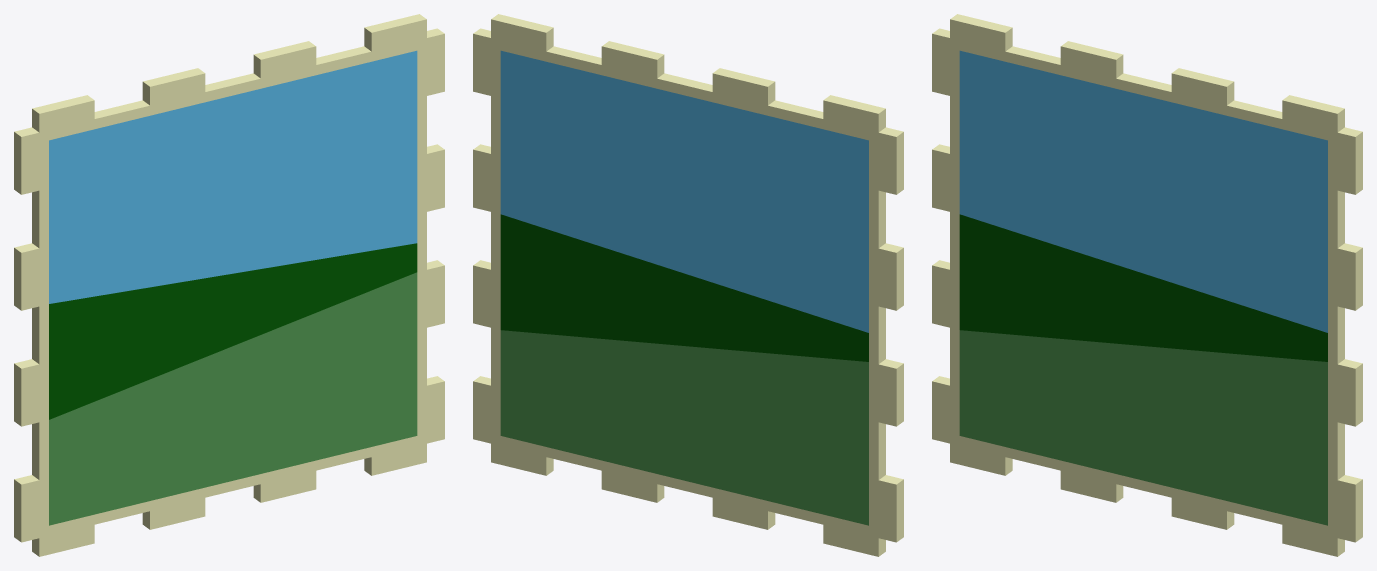
Rendered from stamp.fbx.
3 renders of one model, left to right at view 1: azimuth 30°, elevation 25°; view 2: azimuth 150°, elevation 25°; view 3: azimuth 330°, elevation 25°, orthographic.
Visible parts, largest first — view 1: Stamp; view 2: Stamp; view 3: Stamp.
Part boxes in pixels (x1,y1,x2,y2): Stamp: (14,14,444,556); Stamp: (473,14,903,556); Stamp: (932,14,1362,556).
Bounding box in the file's own units: 219 × 219 × 6.5.
